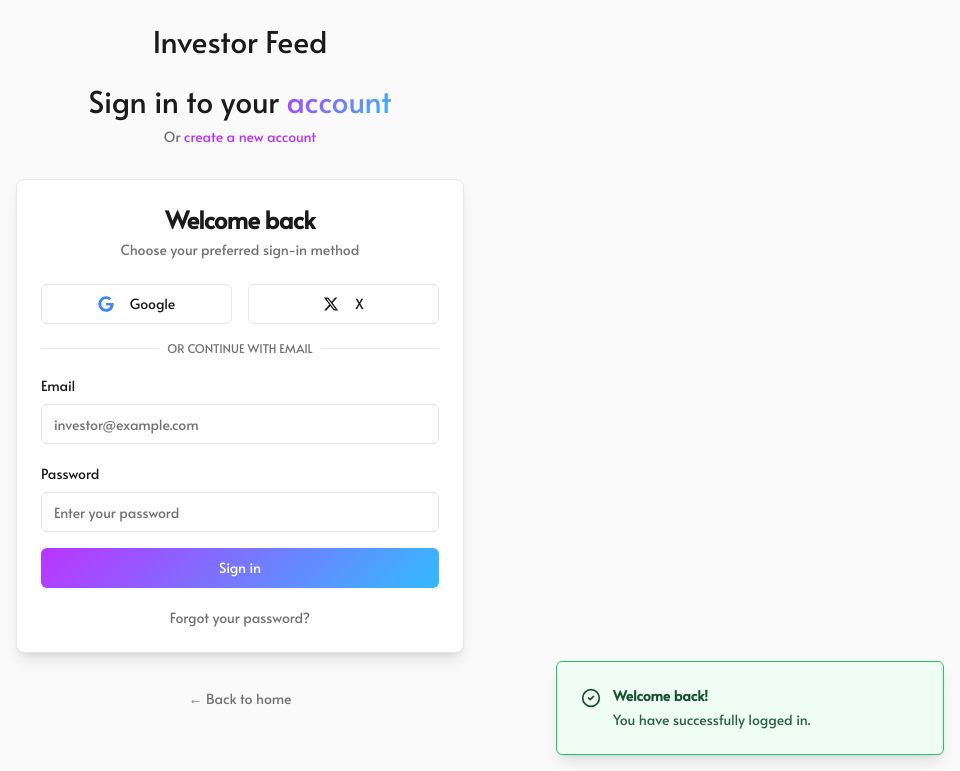
Test case: Login Page › should show error message on invalid credentials
Fill in with wrong credentials
Step 1. Type "wrong@example.com" into the field labelled "Email" → (240, 424), box [41,404,439,444]
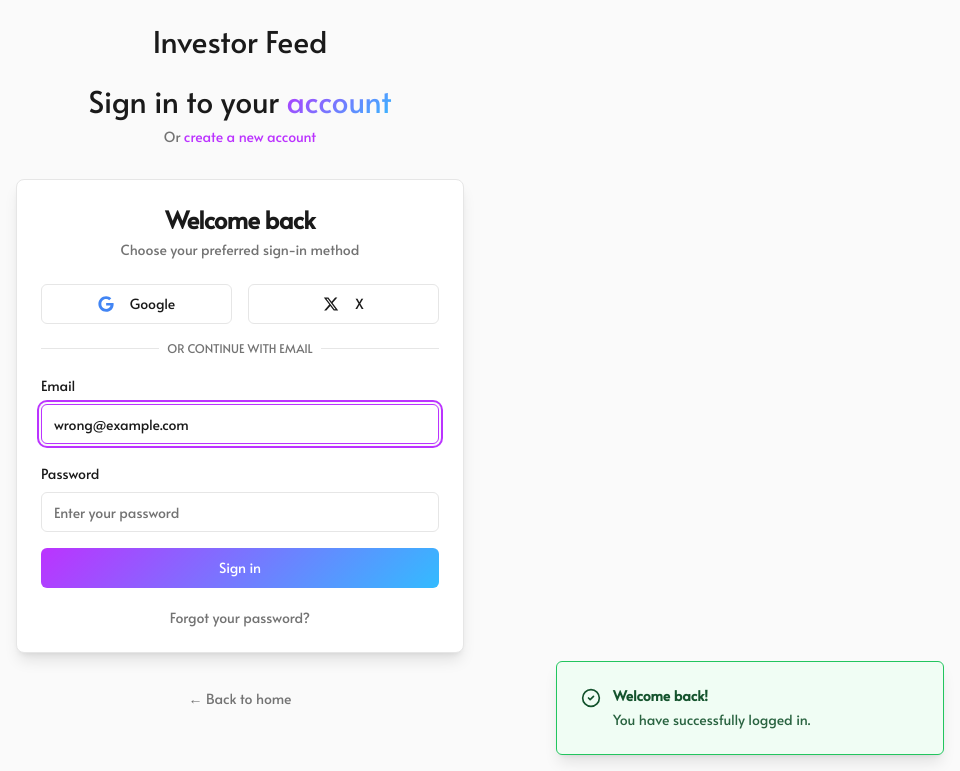
Step 2. Type "wrongpassword" into the password field labelled "Password" → (240, 512), box [41,492,439,532]
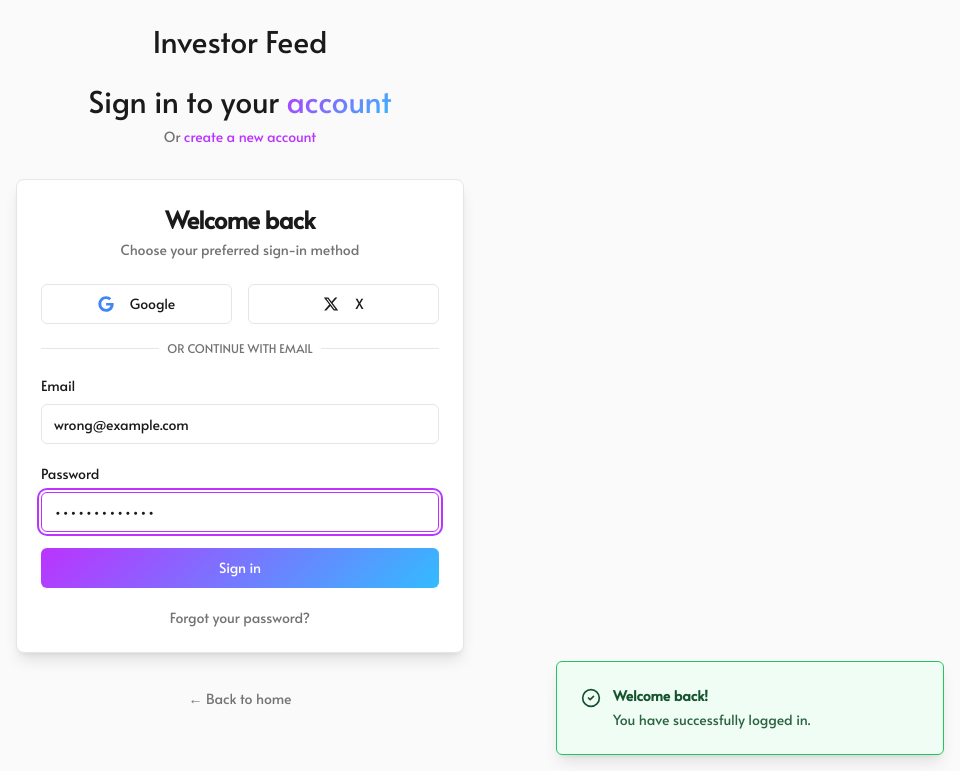
Submit the form
Step 3. Click the button "Sign in" → (240, 568), box [41,548,439,588]
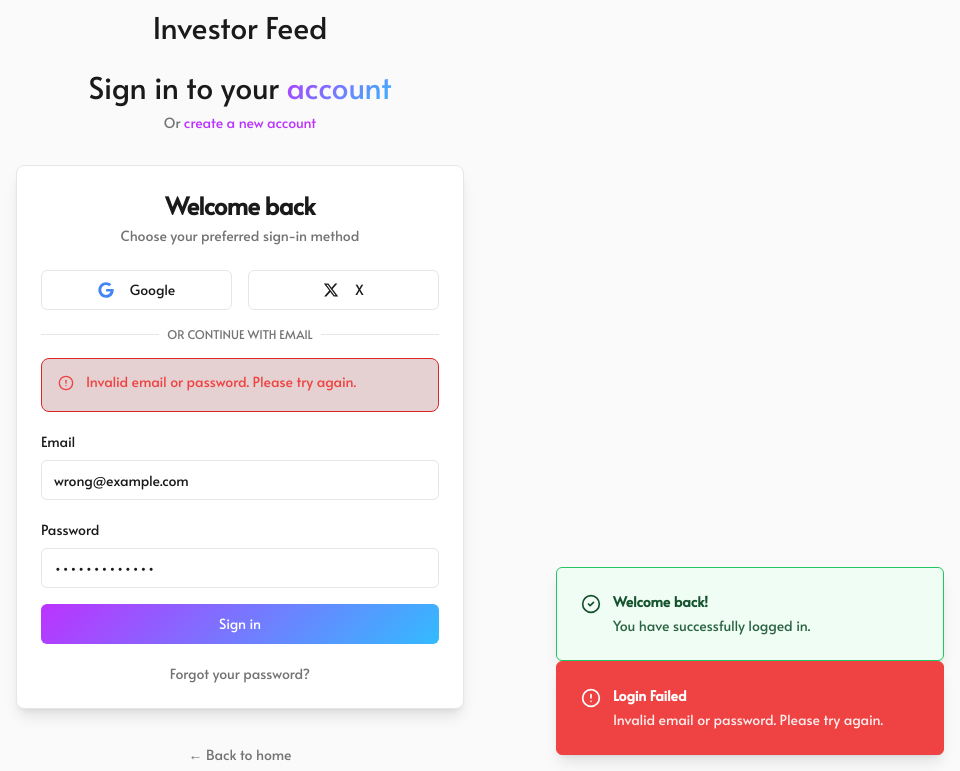
Result: the text "Invalid email or password. Please try again." below "Or continue with email" is shown at [86,372,356,391]
